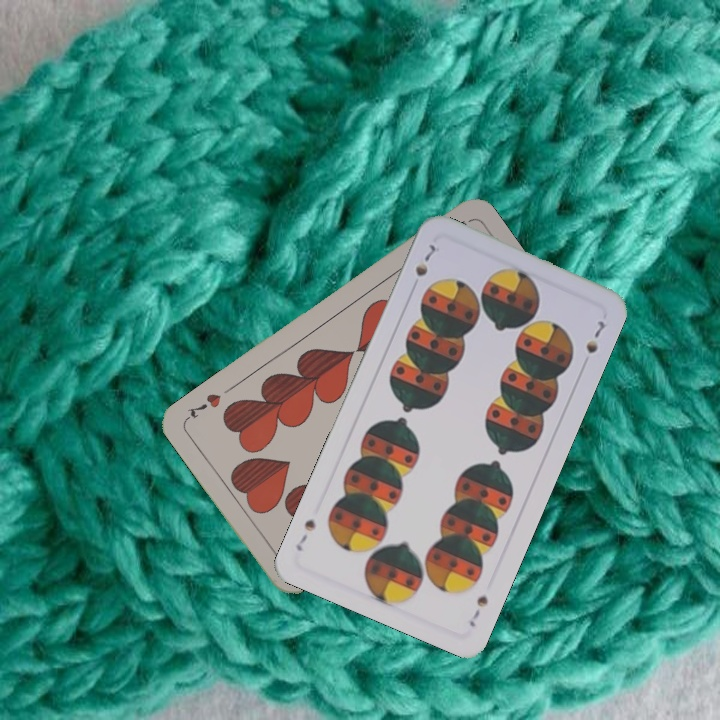S7: (411, 240, 439, 279), (465, 591, 491, 630)
